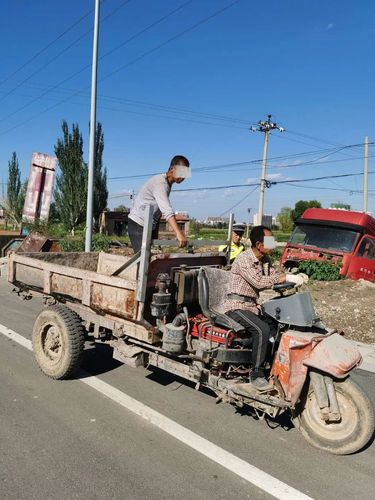driver: (231, 226, 323, 433)
overloading: (21, 145, 375, 472)
passenger: (90, 150, 219, 277)
